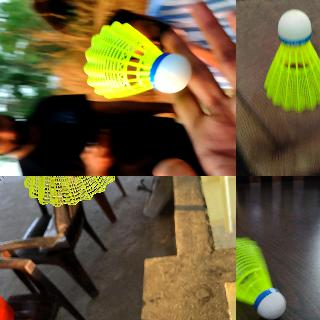shuttlecock: (81, 21, 190, 99), (264, 7, 319, 112), (236, 237, 287, 319), (23, 176, 121, 207)
